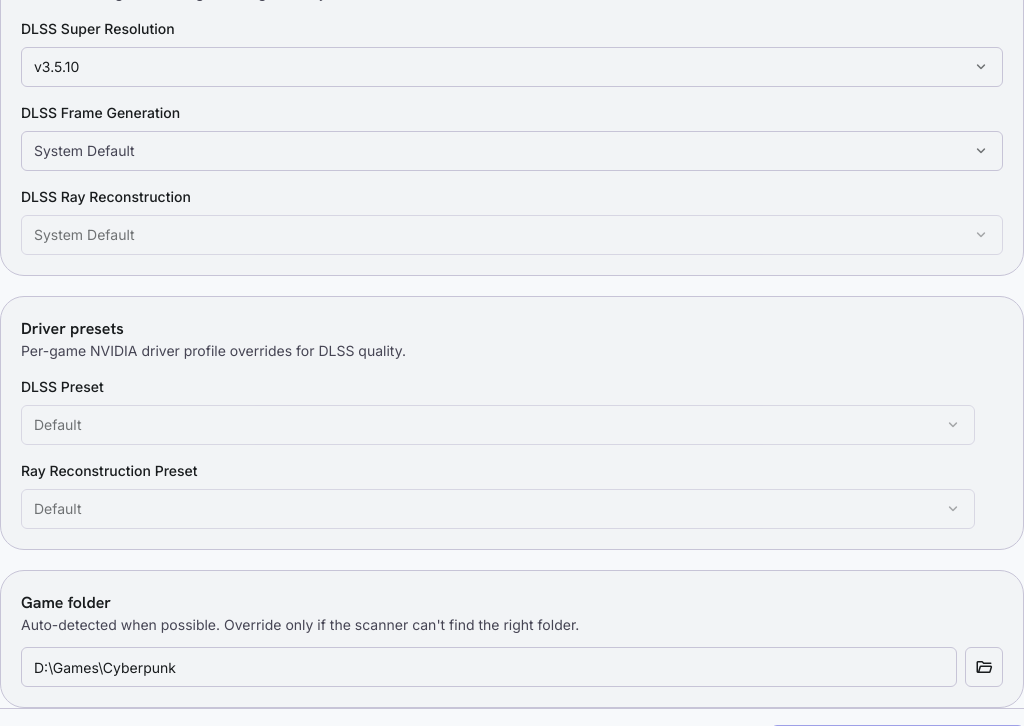
Test: GameDetailDlssTab › shows an error when the folder picker fails
(page scrolled)
Click the button named "Browse for game folder" at (984,667), box [965,647,1003,687]
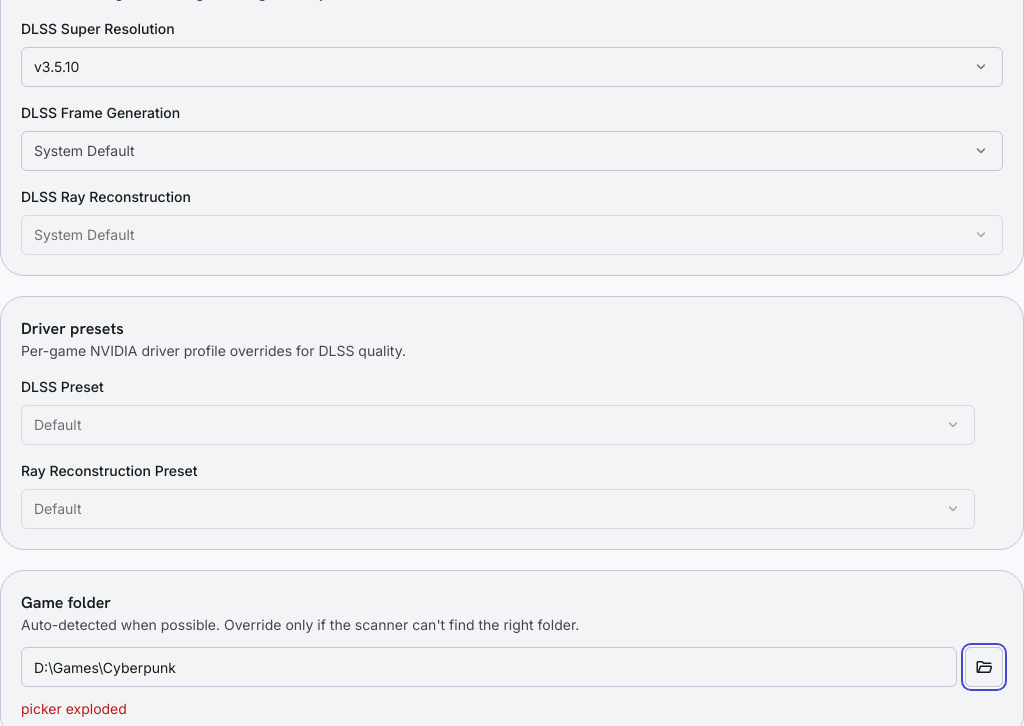
Result: the text "picker exploded" is shown at [21,700,127,717]
